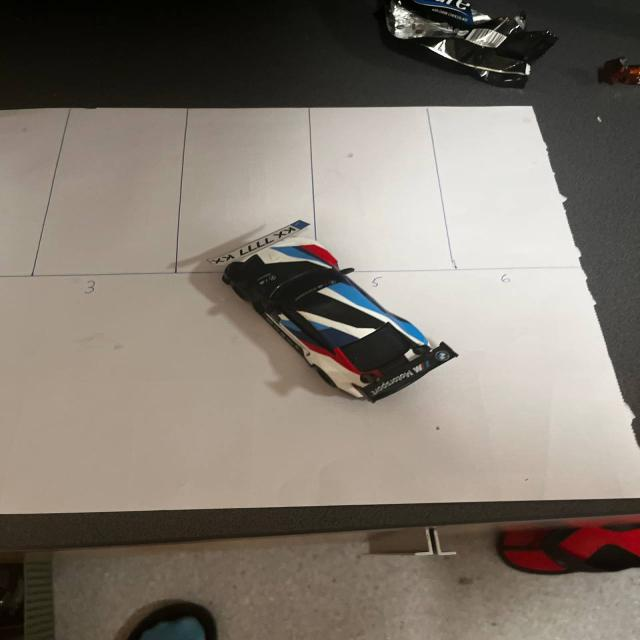cars: (180, 198, 489, 428)
